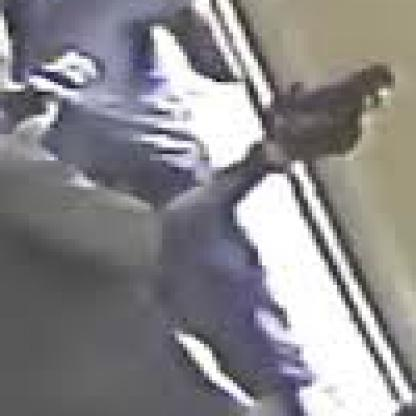gun: (258, 49, 399, 170)
